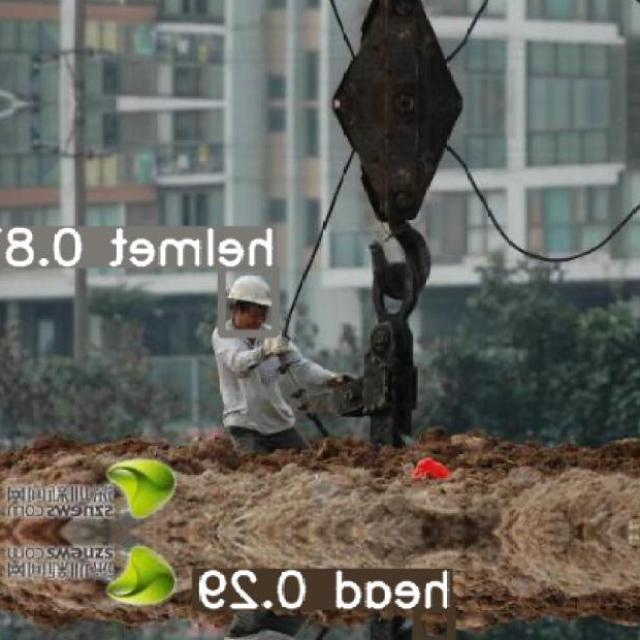helmet: (227, 274, 274, 306)
